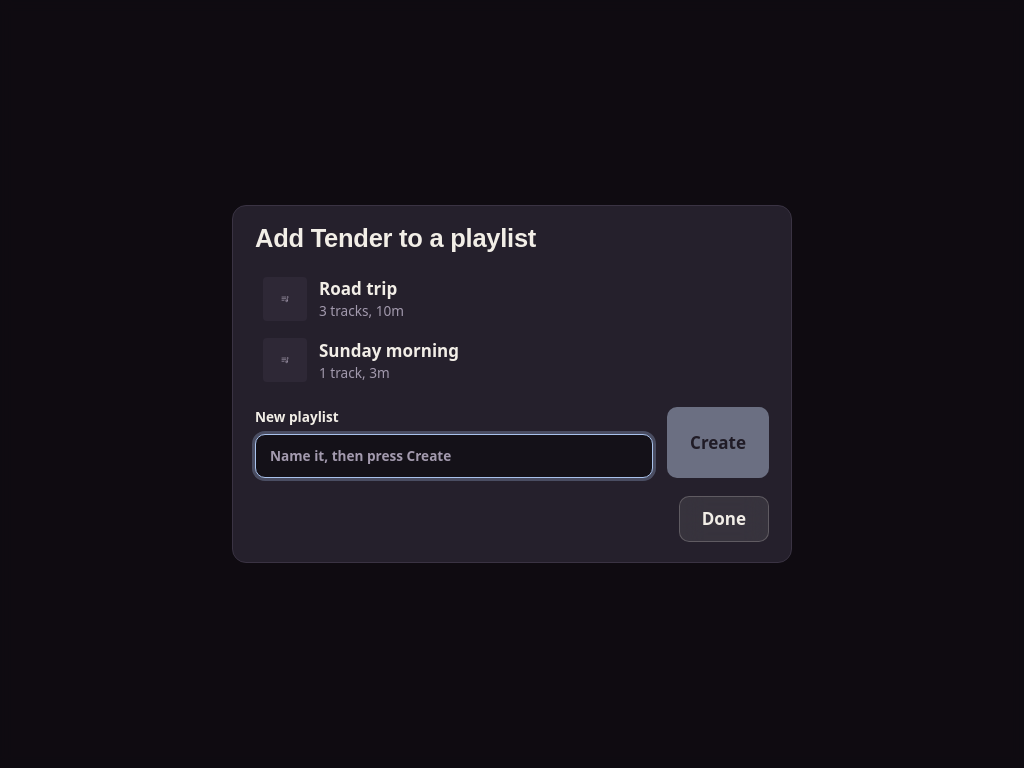
Test: Add to playlist › adds the track to the playlist chosen, skipping it if it is already there, and says so
Expected: the dialog "Add Tender to a playlist" is shown, [232,205,792,563]
Click the button "Road trip 3 tracks, 10m". click: (285, 299)
box: [255,270,769,328]
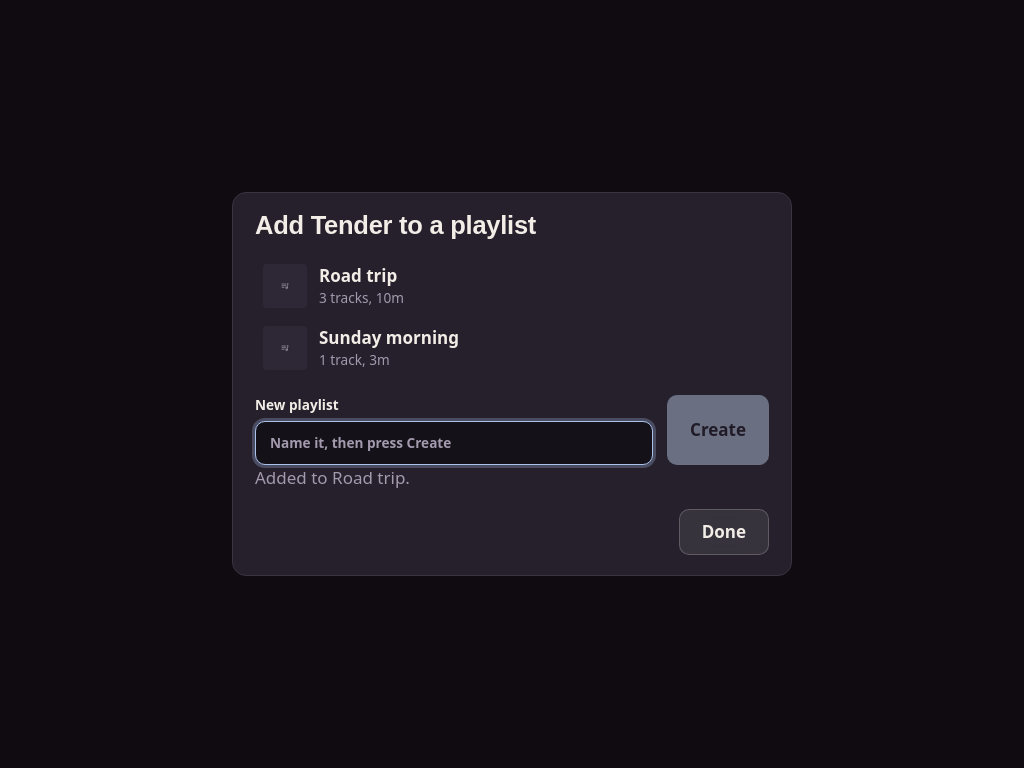
Expected: the message reads "Added to Road trip.", [255,466,410,489]
Click the button "Road trip 3 tracks, 10m". click: (285, 286)
box: [255,257,769,315]
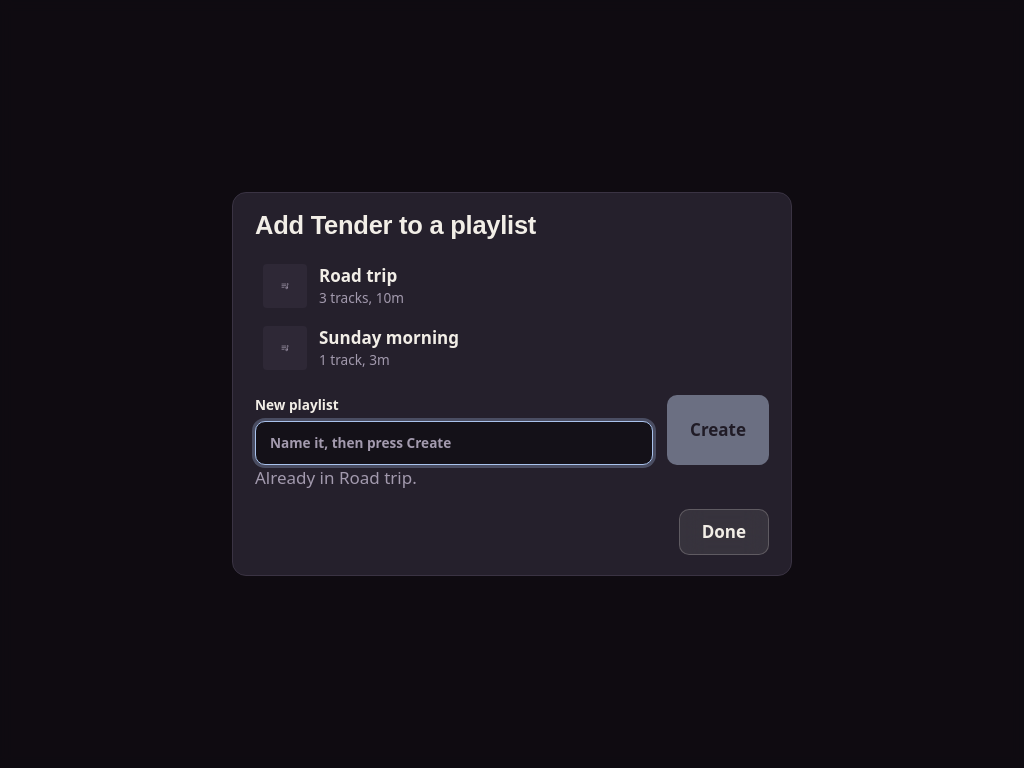
Expected: the button "Sunday morning 1 track, 3m" is shown, [255,319,769,377]
Expected: the message reads "Already in Road trip.", [255,466,417,489]
